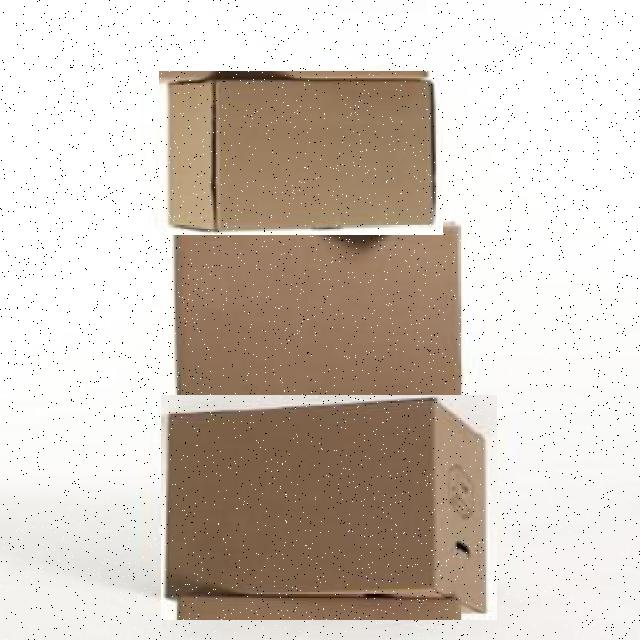normal: (161, 395, 497, 620), (169, 215, 466, 423), (159, 71, 443, 235)
